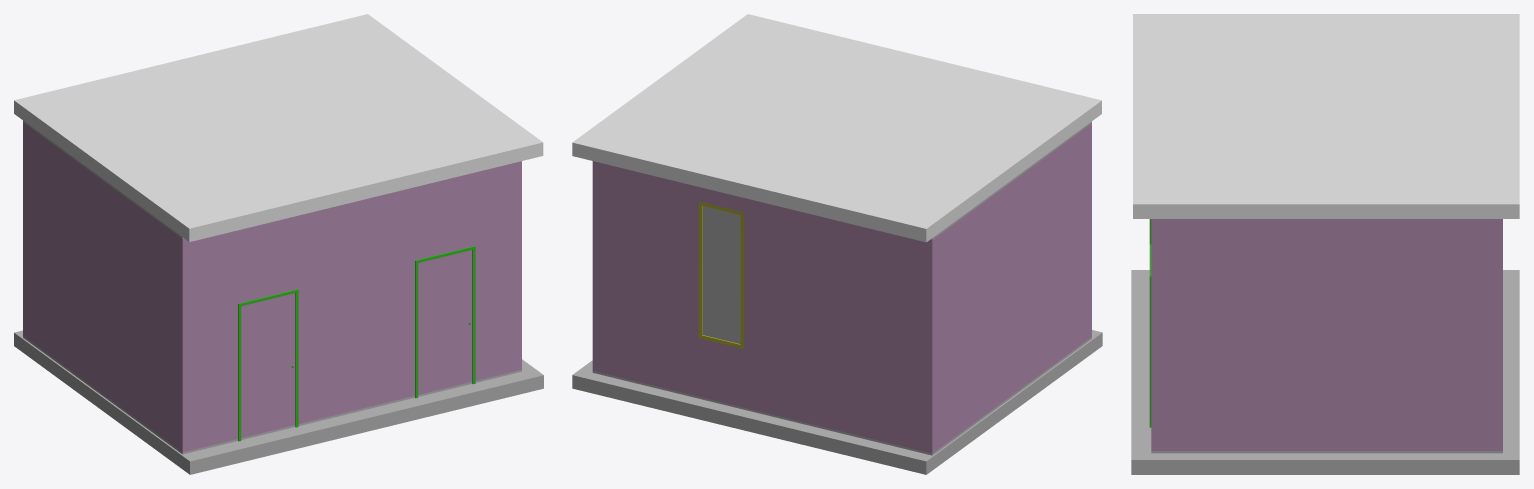
The model's file is FloorPlan322.fbx.
The picture shows the model from 3 angles, left to right: view 1: azimuth 30°, elevation 25°; view 2: azimuth 150°, elevation 25°; view 3: azimuth 270°, elevation 25°; orthographic projection. The views are drawn at different scales.
Visible parts, largest first — view 1: StandardWallSize.018, Ceiling.017, Floor.017, StandardDoorFrame1.016, StandardDoorFrame1 (2); view 2: StandardWallSize.018, Ceiling.017, Floor.017, StandardWindow2.001; view 3: StandardWallSize.018, Ceiling.017, Floor.017, StandardDoorFrame1 (2).
Boxes of the visible parts, box(x1,y1,x2,y2) form: StandardWallSize.018: box(23, 120, 521, 454); Ceiling.017: box(14, 14, 543, 241); Floor.017: box(14, 330, 543, 474); StandardDoorFrame1.016: box(238, 289, 298, 441); StandardDoorFrame1 (2): box(415, 246, 475, 398); StandardWallSize.018: box(592, 121, 1091, 455); Ceiling.017: box(572, 14, 1101, 242); Floor.017: box(572, 330, 1102, 474); StandardWindow2.001: box(698, 201, 743, 348); StandardWallSize.018: box(1151, 219, 1502, 453); Ceiling.017: box(1133, 14, 1519, 218); Floor.017: box(1131, 270, 1519, 474); StandardDoorFrame1 (2): box(1149, 244, 1151, 427).
Size of the model in its own units: 550 by 365 by 474.
